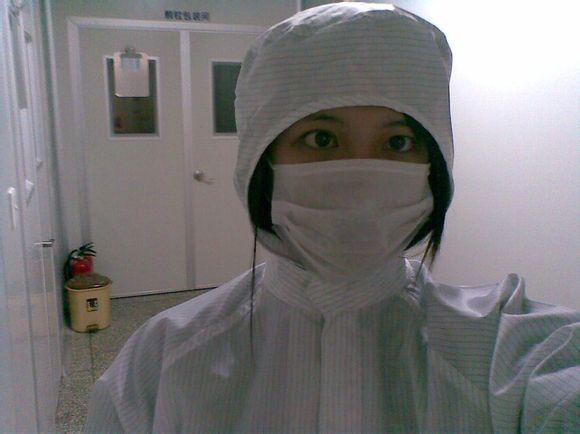OK: (276, 111, 432, 267)
